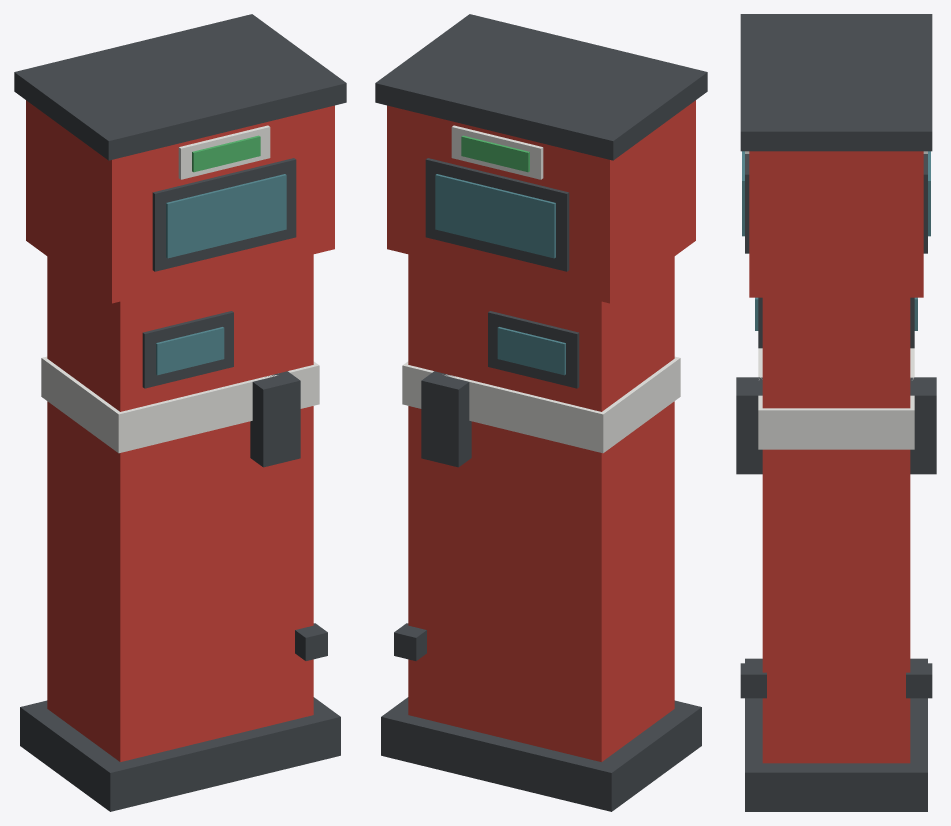
File: fuel-pump.glb
3 renders of one model, left to right at view 1: azimuth 30°, elevation 25°; view 2: azimuth 150°, elevation 25°; view 3: azimuth 270°, elevation 25°, orthographic.
Parts seen in each view (by area): view 1: Prop_FuelPump_mesh; view 2: Prop_FuelPump_mesh; view 3: Prop_FuelPump_mesh.
Boxes of the visible parts, x1,y1,x2,y2 form: Prop_FuelPump_mesh: [14, 14, 346, 811]; Prop_FuelPump_mesh: [375, 14, 707, 811]; Prop_FuelPump_mesh: [736, 14, 936, 811].
Bounding box in the file's own units: 0.64 × 1.73 × 0.46.
